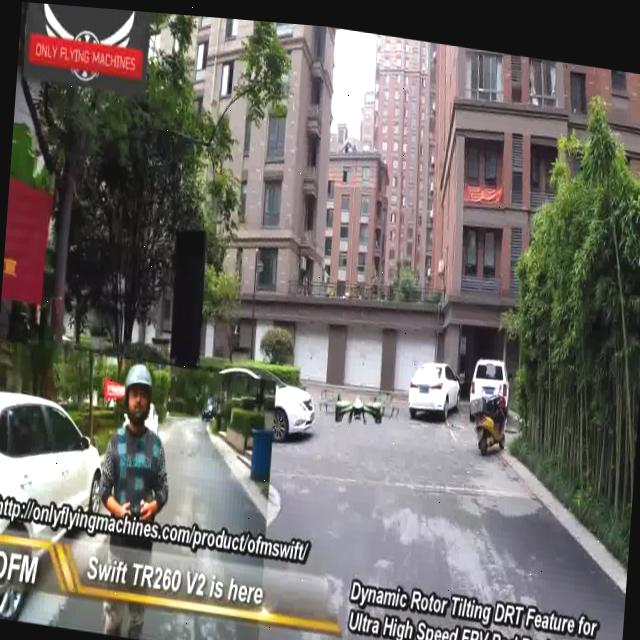drone: (310, 364, 402, 437)
